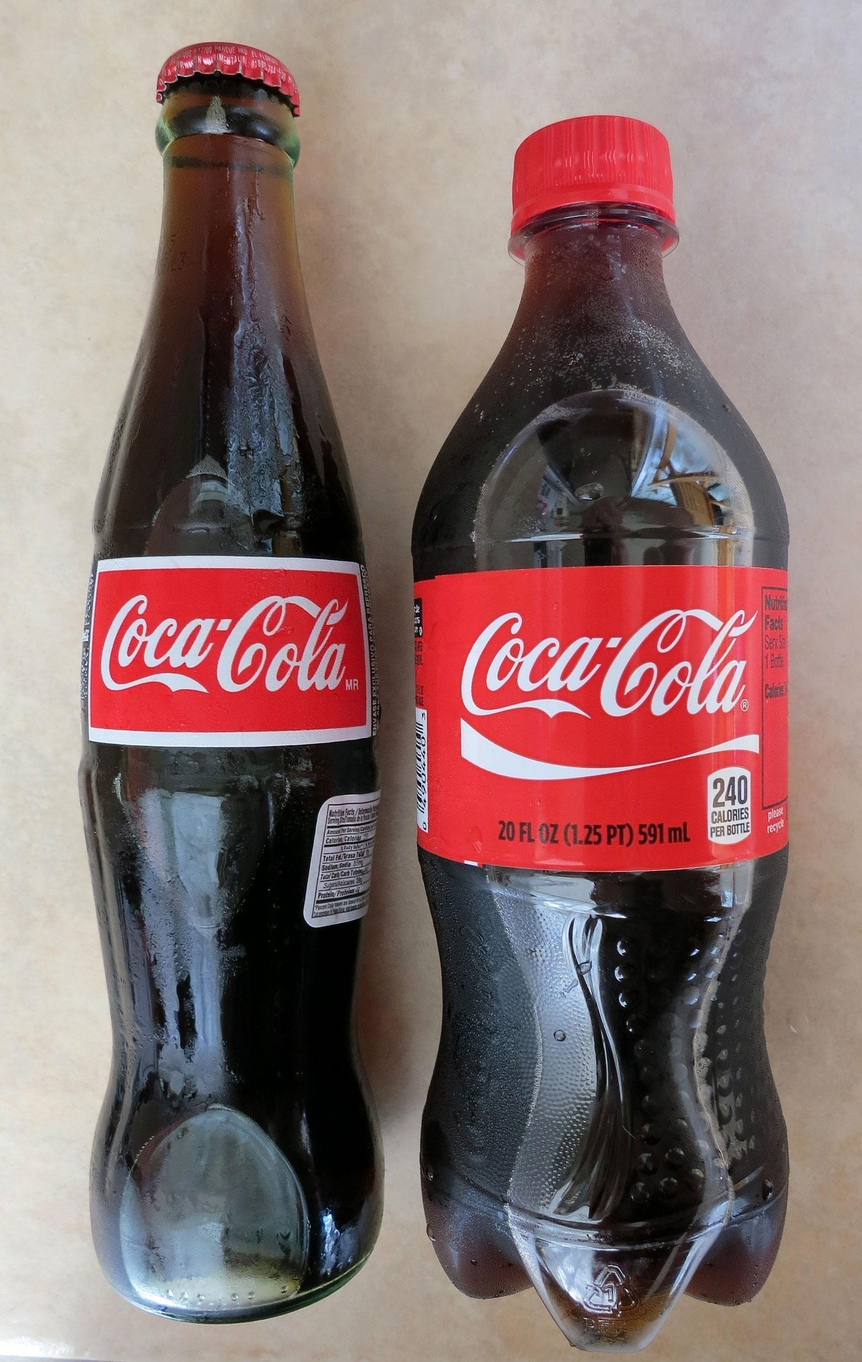bottle-glass: (69, 42, 391, 1324)
bottle-plastic: (396, 101, 813, 1360)
